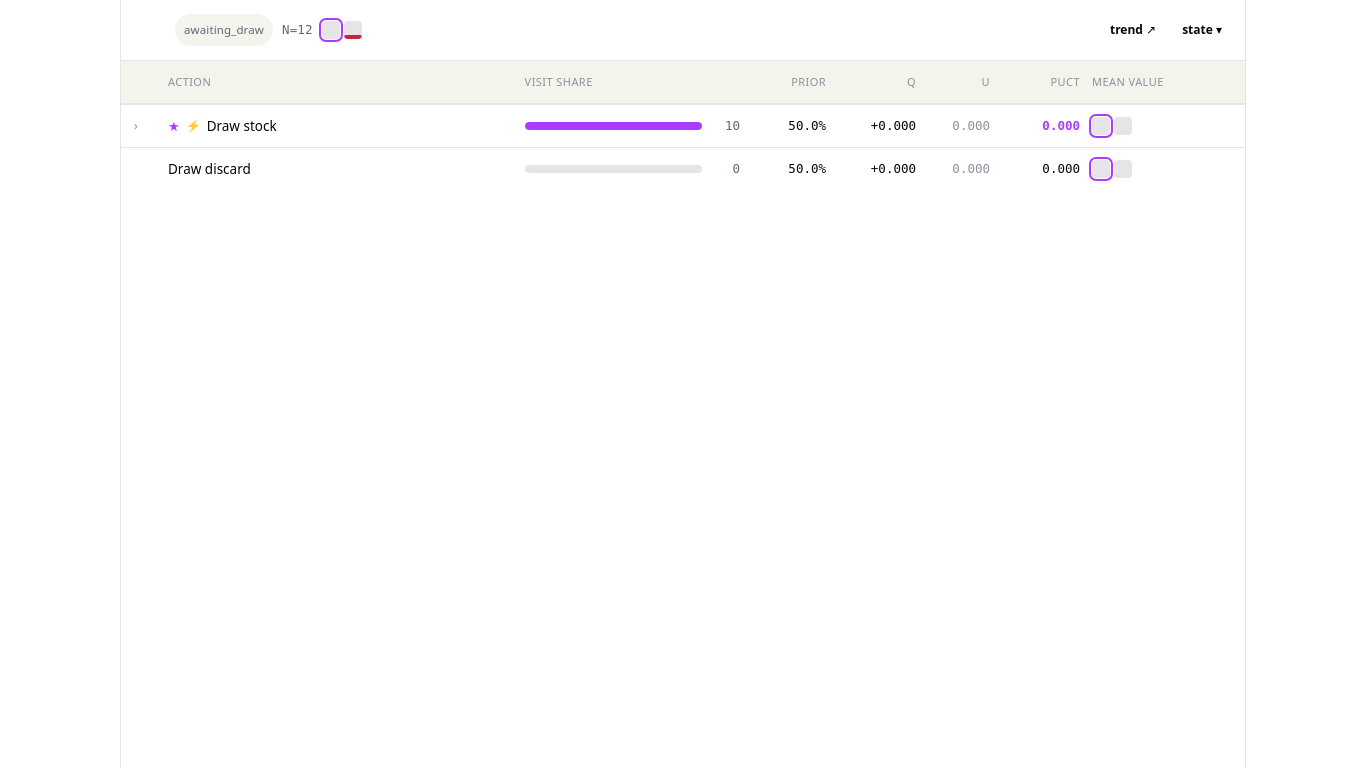
Test case: NodeBlock / edge row expand-collapse › recurses through a chance node into its decision grandchild when expanded (happy path)
Click the button "› ★ ⚡ Draw stock 10 50.0% +0.000 0.000 0.000" at coordinates (683, 126), box [121, 104, 1245, 147]
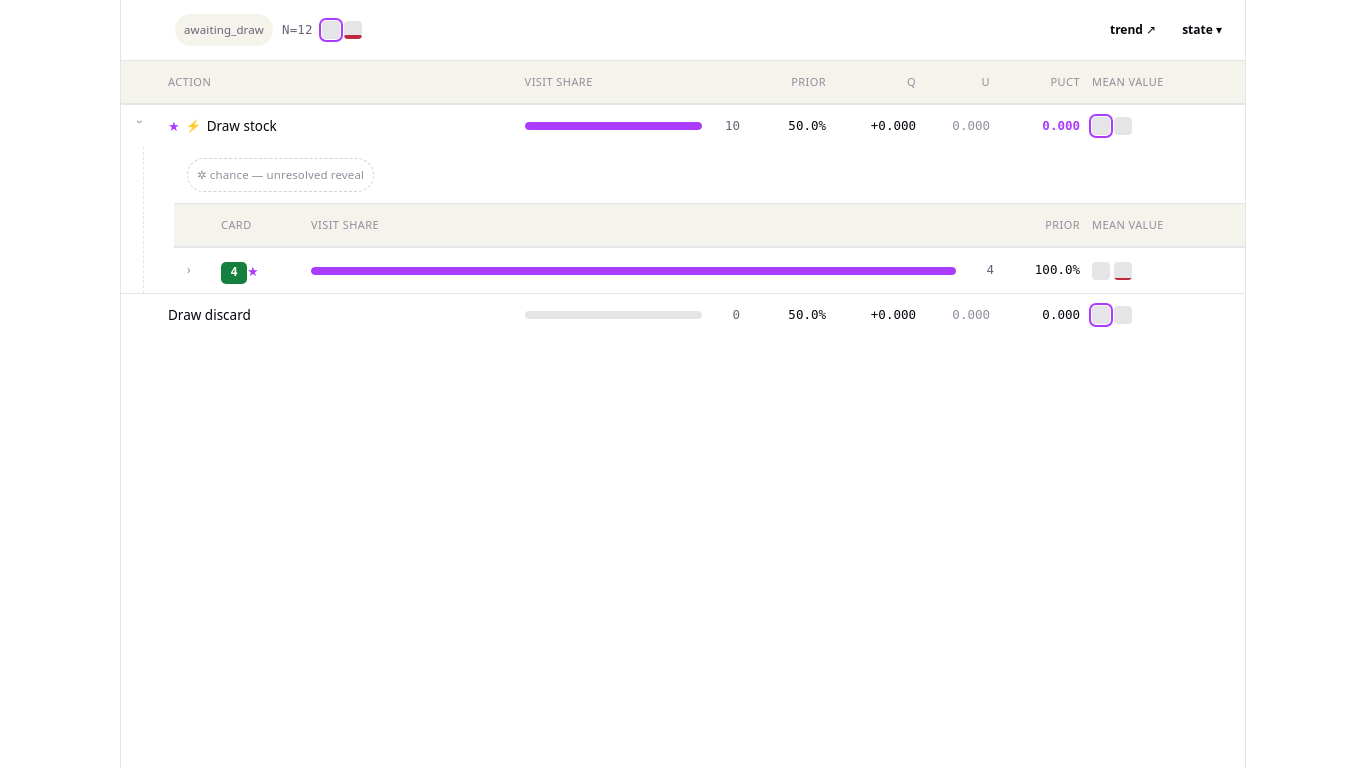
Click the button named "Card 4" at coordinates (710, 270), box [174, 248, 1245, 293]
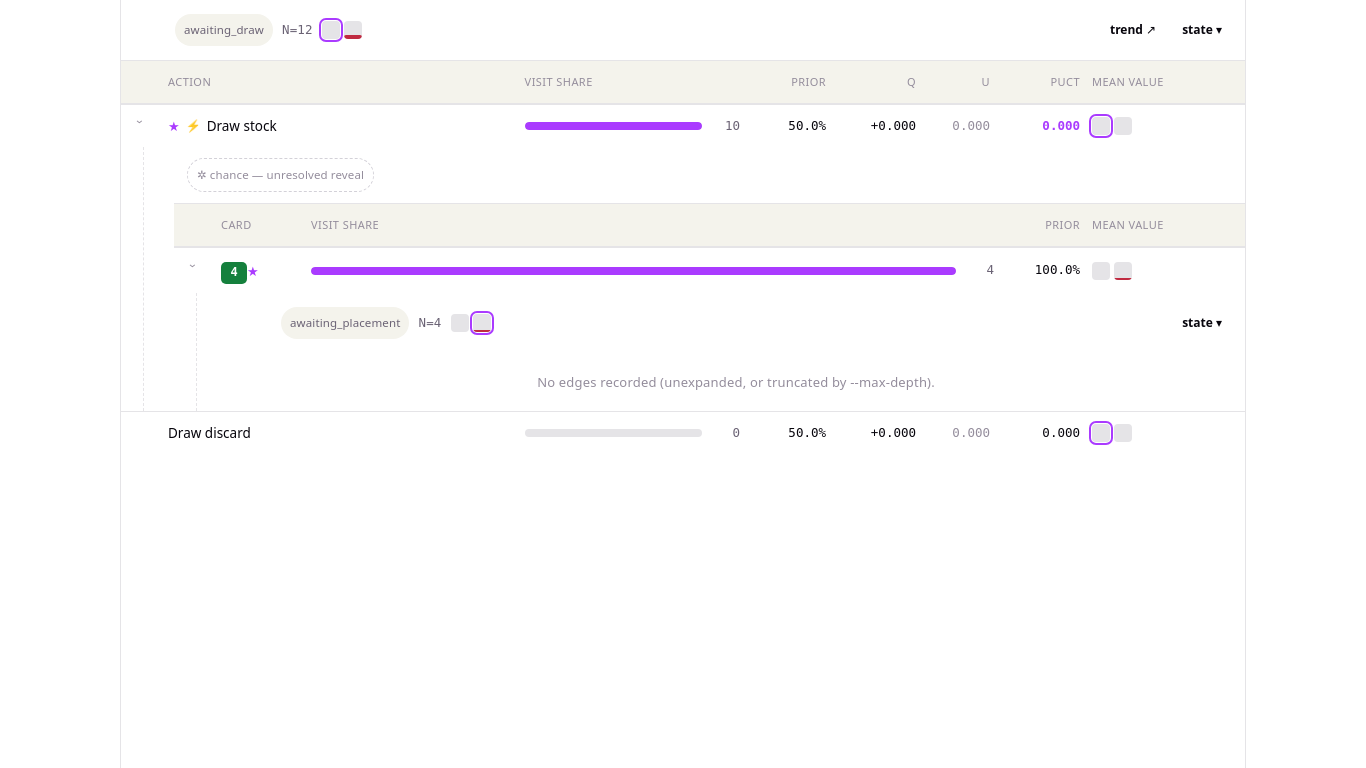
Check: the text "awaiting_placement" is shown, box [281, 307, 409, 339]
